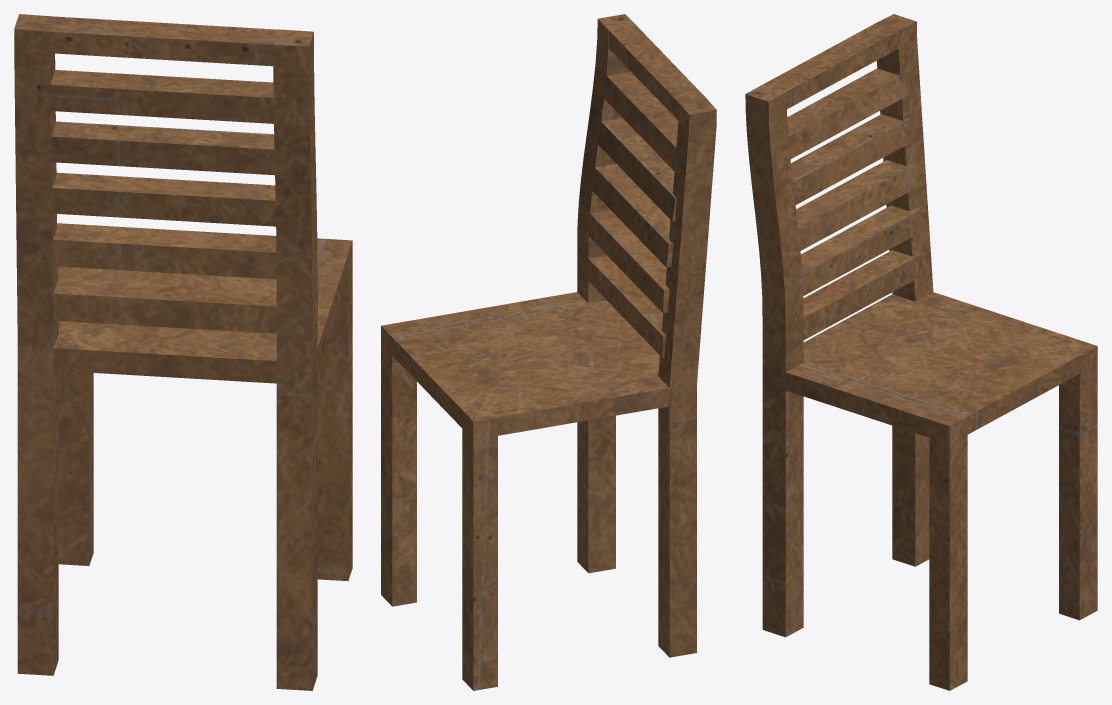
The model's file is chair.fbx.
The picture shows the model from 3 angles, left to right: view 1: azimuth 30°, elevation 25°; view 2: azimuth 150°, elevation 25°; view 3: azimuth 270°, elevation 25°; orthographic projection. The views are drawn at different scales.
Parts seen in each view (by area): view 1: Cube.544; view 2: Cube.544; view 3: Cube.544.
Boxes of the visible parts, <box> form: Cube.544: <box>14,14,352,690</box>; Cube.544: <box>381,14,716,690</box>; Cube.544: <box>745,14,1097,690</box>.
Bounding box in the file's own units: 149 × 251 × 151.
